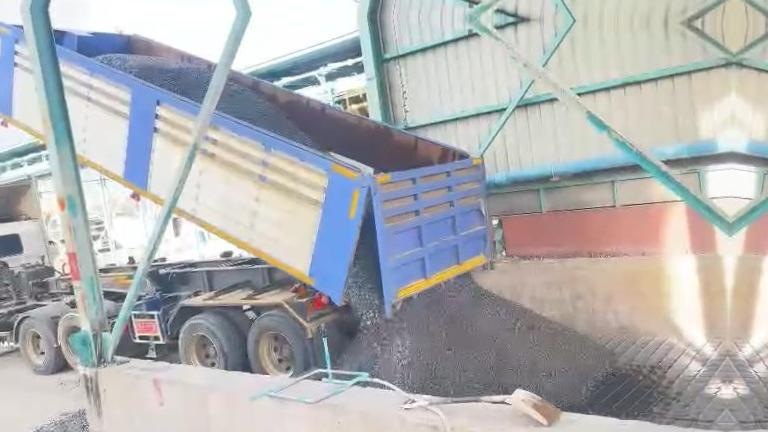gravel: (339, 204, 612, 408), (219, 79, 321, 150), (95, 54, 215, 102), (0, 409, 106, 432)
